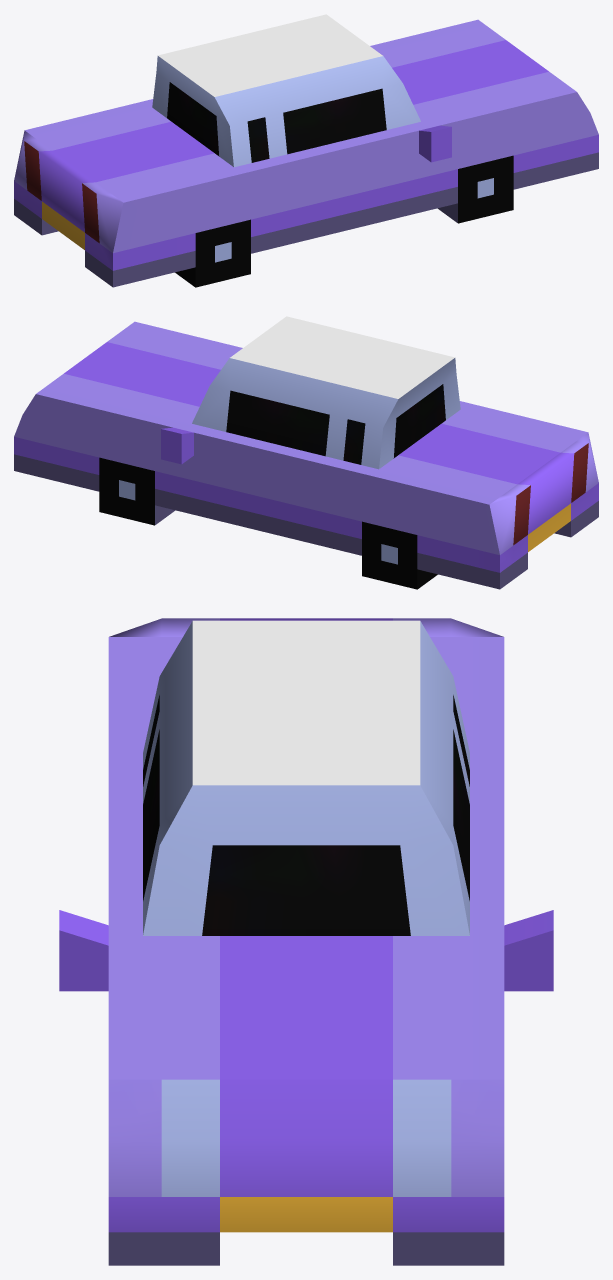
Rendered from car5.FBX.
The picture shows the model from 3 angles, top to bottom: view 1: azimuth 30°, elevation 25°; view 2: azimuth 150°, elevation 25°; view 3: azimuth 270°, elevation 25°; orthographic projection. The views are drawn at different scales.
Visible parts, largest first — view 1: car5; view 2: car5; view 3: car5.
Boxes of the visible parts, x1,y1,x2,y2 form: car5: [14, 14, 598, 287]; car5: [14, 316, 598, 589]; car5: [59, 618, 553, 1265].
Bounding box in the file's own units: 434 × 140 × 190.
